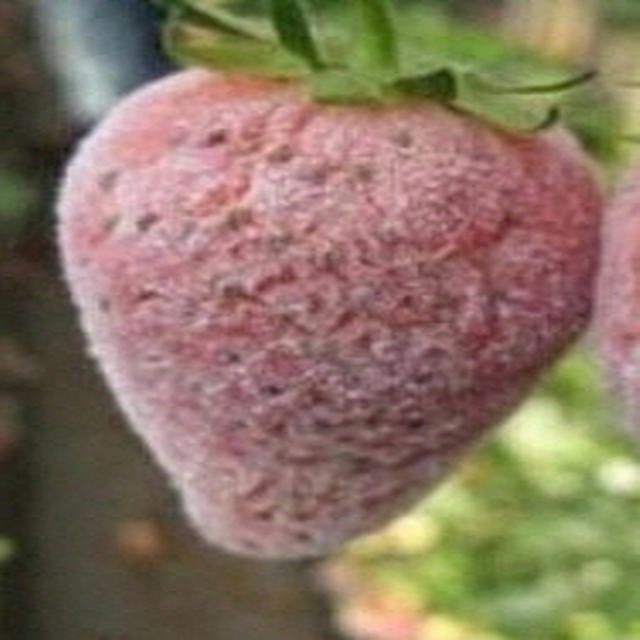Powdery Mildew Fruit: (56, 51, 615, 562)
